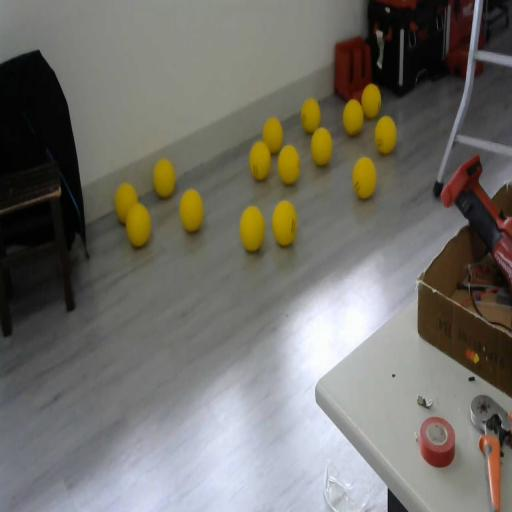FUEL: (238, 204, 266, 253), (271, 199, 298, 247), (178, 187, 204, 233), (352, 155, 377, 199), (113, 181, 138, 224), (277, 143, 301, 186), (248, 139, 272, 182), (374, 114, 398, 154), (153, 158, 175, 198), (311, 126, 333, 166), (262, 116, 284, 155), (342, 98, 364, 136), (361, 82, 382, 119), (301, 97, 321, 133)
